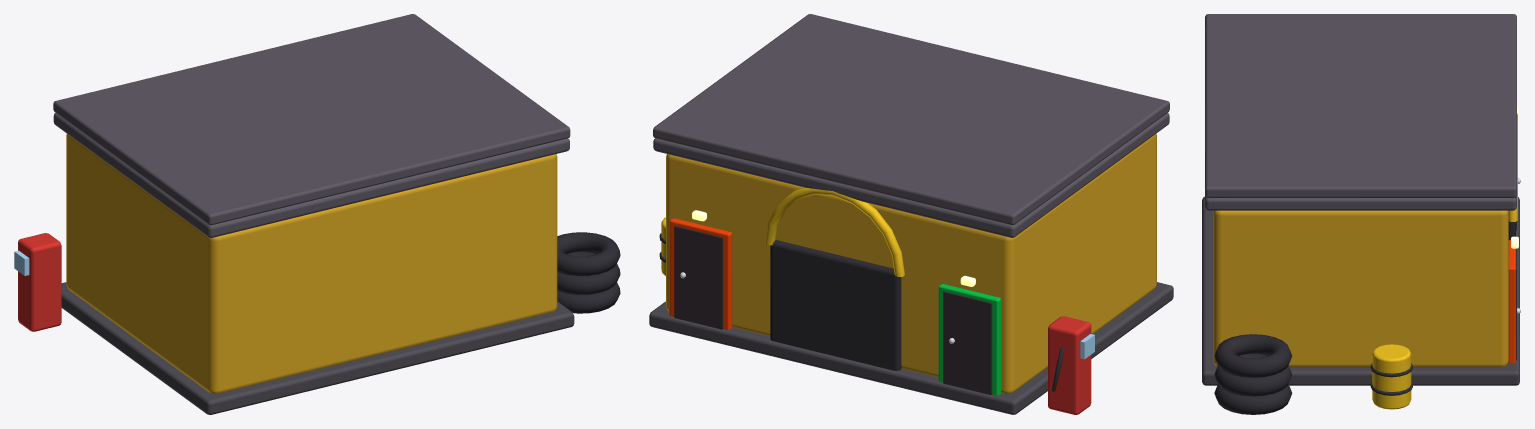
Rendered from building_vehicle_depot_t1.glb.
3 views of the same model, side by side, from view 1: azimuth 30°, elevation 25°; view 2: azimuth 150°, elevation 25°; view 3: azimuth 270°, elevation 25° (orthographic).
Parts seen in each view (by area): view 1: Walls, Roof.Parapet, Plinth, Roof.Slab, Pump, Tyre2, Tyre1, Tyre0; view 2: Roof.Parapet, Walls, Bay0, Plinth, Roof.Slab, Entry.Leaf, Exit.Leaf, Pump, Bay0.Arch, Exit.Frame, Entry.Frame; view 3: Roof.Parapet, Walls, Plinth, Roof.Slab, Tyre2, Drum1.Drum, Tyre1, Tyre0, Exit.Frame.
Part boxes in pixels (bbox=[...]): Walls: bbox=[66, 134, 557, 393]; Roof.Parapet: bbox=[53, 14, 570, 225]; Plinth: bbox=[61, 282, 574, 414]; Roof.Slab: bbox=[53, 113, 569, 237]; Pump: bbox=[18, 233, 61, 331]; Tyre2: bbox=[557, 232, 620, 275]; Tyre1: bbox=[557, 251, 620, 294]; Tyre0: bbox=[557, 282, 620, 313]; Roof.Parapet: bbox=[653, 14, 1169, 224]; Walls: bbox=[666, 133, 1156, 393]; Bay0: bbox=[770, 240, 901, 370]; Plinth: bbox=[649, 282, 1173, 414]; Roof.Slab: bbox=[653, 113, 1169, 237]; Entry.Leaf: bbox=[943, 291, 992, 394]; Exit.Leaf: bbox=[674, 225, 723, 329]; Pump: bbox=[1048, 316, 1091, 414]; Bay0.Arch: bbox=[765, 187, 904, 276]; Exit.Frame: bbox=[669, 218, 732, 329]; Entry.Frame: bbox=[938, 284, 1000, 395]; Roof.Parapet: bbox=[1205, 14, 1516, 197]; Walls: bbox=[1213, 210, 1508, 367]; Plinth: bbox=[1202, 196, 1519, 385]; Roof.Slab: bbox=[1205, 195, 1516, 210]; Tyre2: bbox=[1214, 334, 1291, 377]; Drum1.Drum: bbox=[1372, 344, 1411, 409]; Tyre1: bbox=[1214, 353, 1292, 396]; Tyre0: bbox=[1214, 384, 1292, 414]; Exit.Frame: bbox=[1508, 240, 1515, 362].
Bounding box in the file's own units: 5.4 × 2.13 × 3.11.
